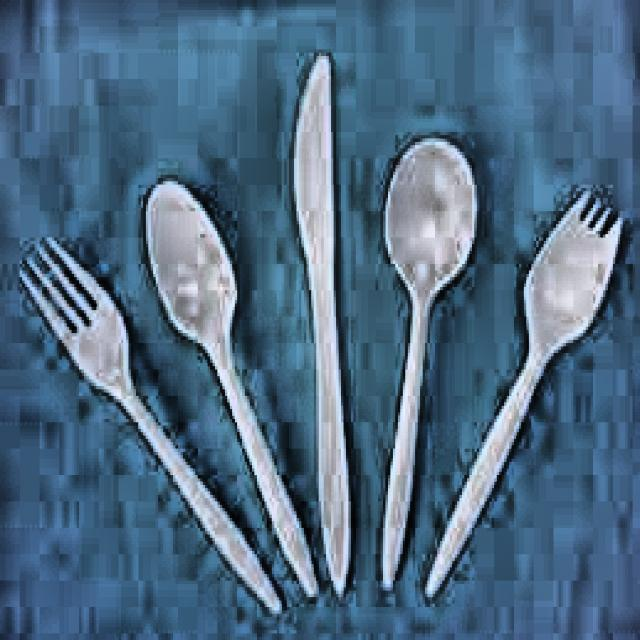plastic utensil: (21, 242, 272, 605), (426, 194, 619, 595), (146, 184, 315, 595), (382, 139, 475, 587), (294, 55, 350, 592)
